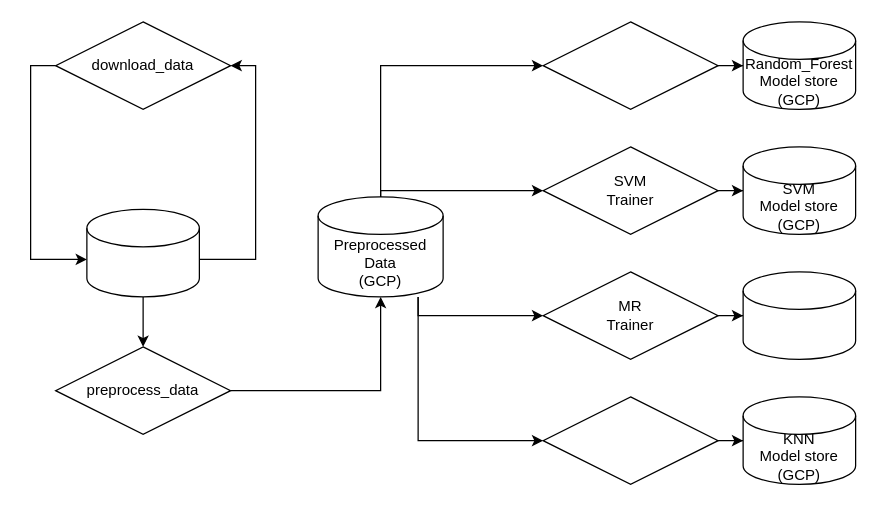
The diagram is 878 pixels wide and 506 high, and some of its shapes have lost their labels. Here are the shapes that lost their labels. From the top down, the box of each, then its label:
(542, 21, 718, 109): Random_Forest Trainer
(86, 208, 199, 297): Raw Data (GCP)
(742, 271, 856, 359): MR Model store (GCP)
(542, 396, 718, 484): KNN Trainer
